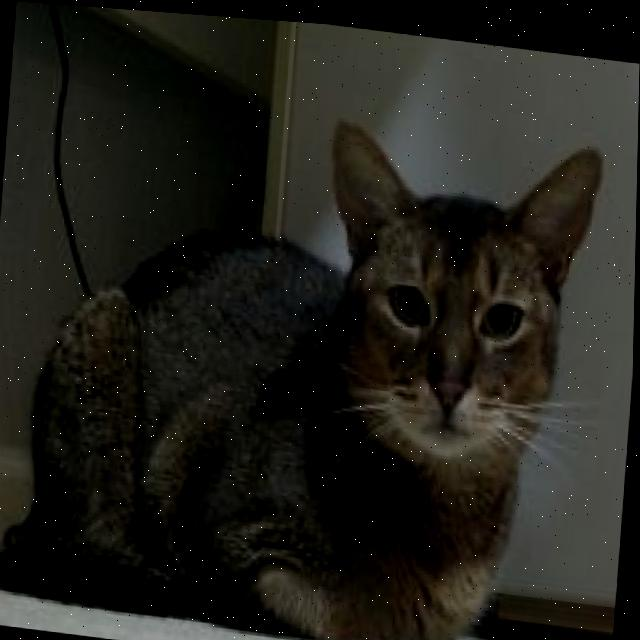Abyssinian: (0, 71, 607, 640)
